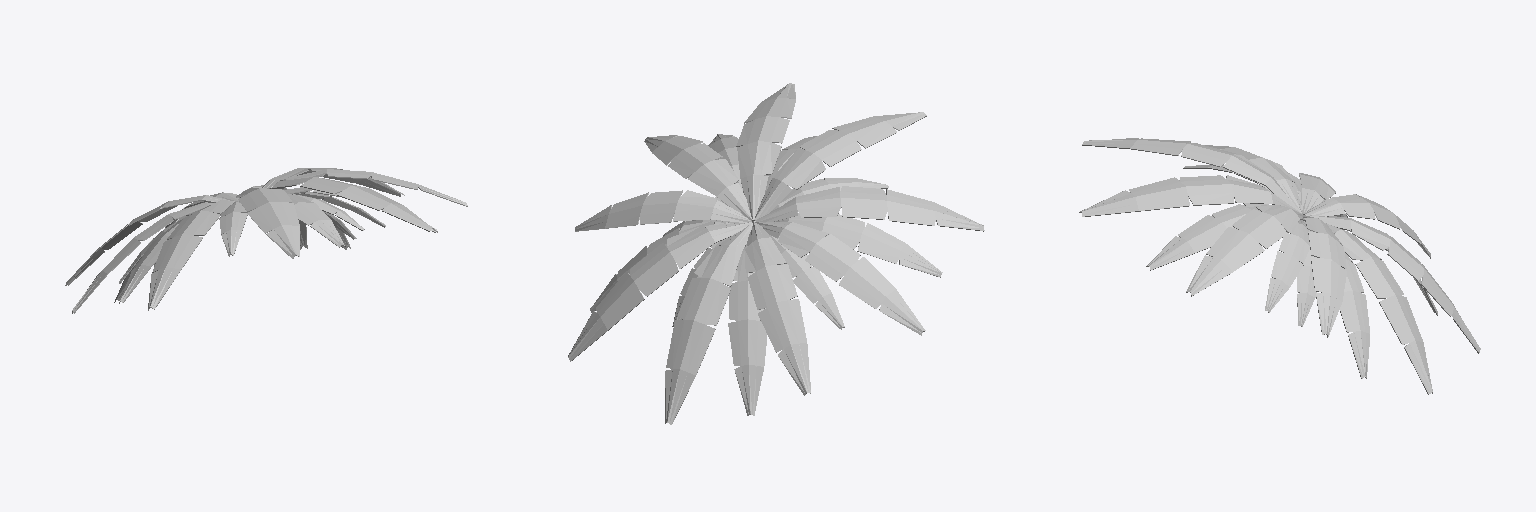
The model's file is Hojas_Palmera_2.obj.
3 renders of one model, left to right at view 1: azimuth 30°, elevation 25°; view 2: azimuth 150°, elevation 25°; view 3: azimuth 270°, elevation 25°, orthographic.
Parts seen in each view (by area): view 1: foliage.4_Plane.038; view 2: foliage.4_Plane.038; view 3: foliage.4_Plane.038.
Part boxes in pixels (left/top/right/bottom): foliage.4_Plane.038: left=65, top=168, right=467, bottom=313; foliage.4_Plane.038: left=568, top=83, right=984, bottom=424; foliage.4_Plane.038: left=1079, top=138, right=1480, bottom=394.
Size of the model in its own units: 48.63 by 26.27 by 49.76.